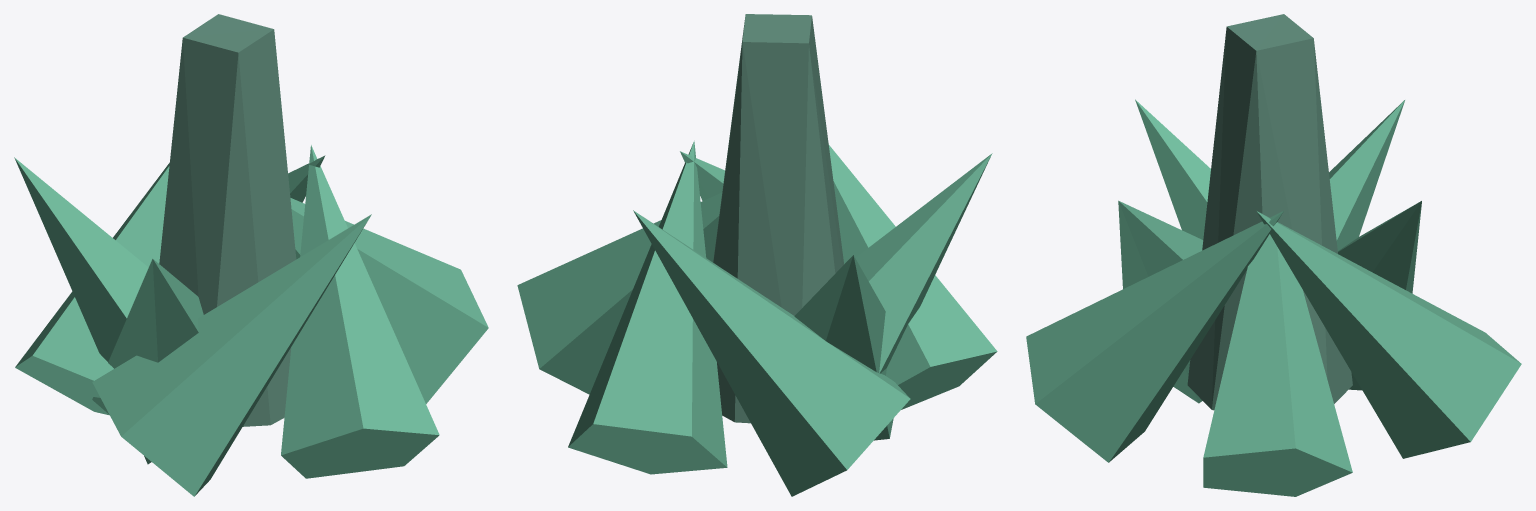
The model's file is Plant_02_LOD1.fbx.
The picture shows the model from 3 angles, left to right: view 1: azimuth 30°, elevation 25°; view 2: azimuth 150°, elevation 25°; view 3: azimuth 270°, elevation 25°; orthographic projection. The views are drawn at different scales.
Parts seen in each view (by area): view 1: Plant_02_LOD1; view 2: Plant_02_LOD1; view 3: Plant_02_LOD1.
Boxes of the visible parts, x1,y1,x2,y2 form: Plant_02_LOD1: (14,14,488,496); Plant_02_LOD1: (517,14,997,496); Plant_02_LOD1: (1026,14,1521,496).
Bounding box in the file's own units: 190 × 181 × 204.
